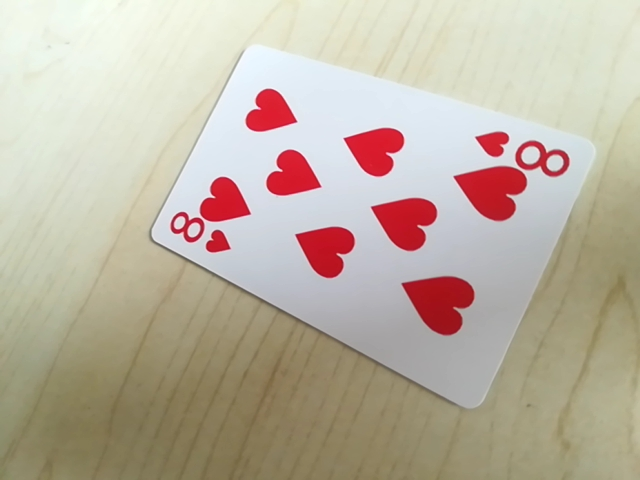hx 8: (475, 130, 574, 173), (165, 217, 236, 258)
